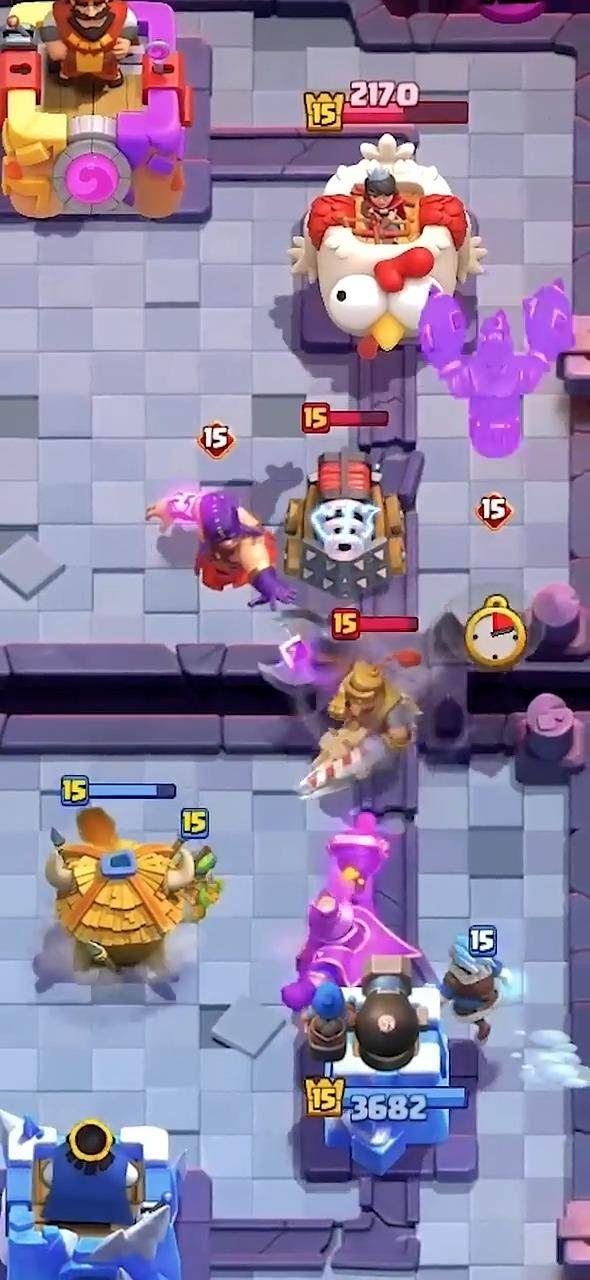executioner: (146, 491, 292, 607)
furnace: (282, 812, 418, 1011)
goblin hut: (45, 806, 196, 998)
ice wizard: (439, 935, 509, 1043)
mega knight: (419, 280, 572, 458)
prince: (300, 660, 419, 795)
sparky: (284, 449, 404, 603)
spear goblin: (187, 846, 222, 920)
